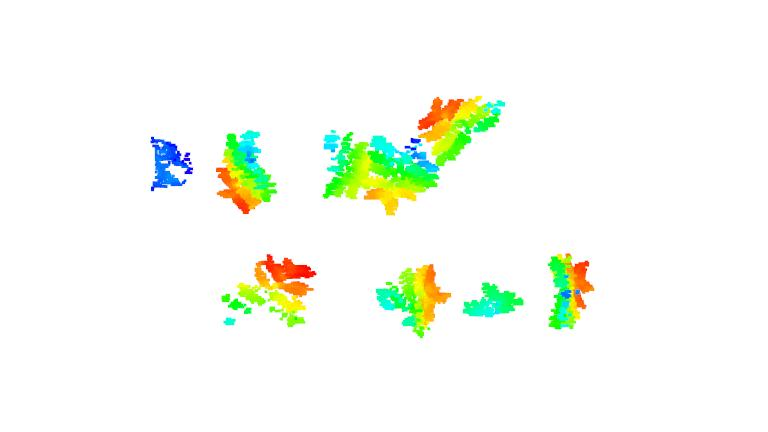chickpea: (315, 127, 439, 215), (226, 251, 316, 333), (415, 91, 509, 169), (374, 261, 450, 341), (218, 125, 281, 216), (544, 247, 598, 332), (460, 279, 523, 322)
